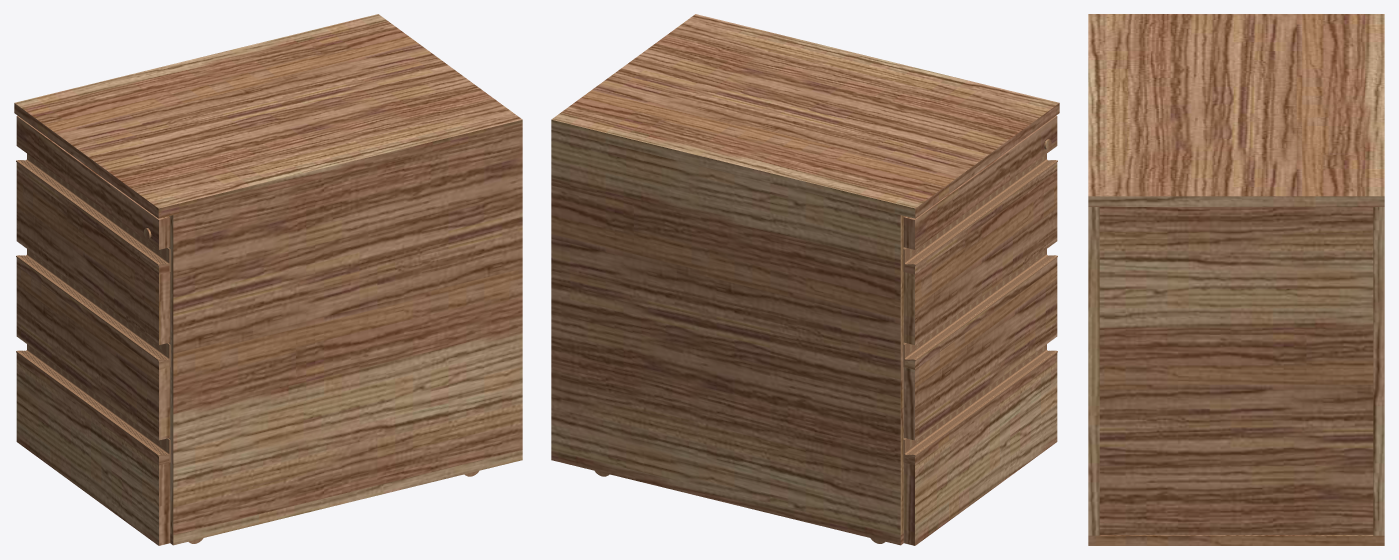
Rendered from cabinet_10HE_41_2_bez_handli_DO_SCENY_3finala.fbx.
3 views of the same model, side by side, from view 1: azimuth 30°, elevation 25°; view 2: azimuth 150°, elevation 25°; view 3: azimuth 270°, elevation 25° (orthographic). The views are drawn at different scales.
Visible parts, largest first — view 1: drewno_mesh (×5), plastic_mesh (×3); view 2: drewno_mesh (×5), plastic_mesh (×3); view 3: drewno_mesh.
Part boxes in pixels (box(x1,y1,x2,y2)): drewno_mesh (×5): box(14, 14, 522, 545); plastic_mesh (×3): box(16, 154, 170, 462); drewno_mesh (×5): box(551, 14, 1059, 545); plastic_mesh (×3): box(903, 154, 1057, 462); drewno_mesh: box(1088, 14, 1384, 545).
Bounding box in the file's own units: 60.08 × 56.1 × 41.2.
